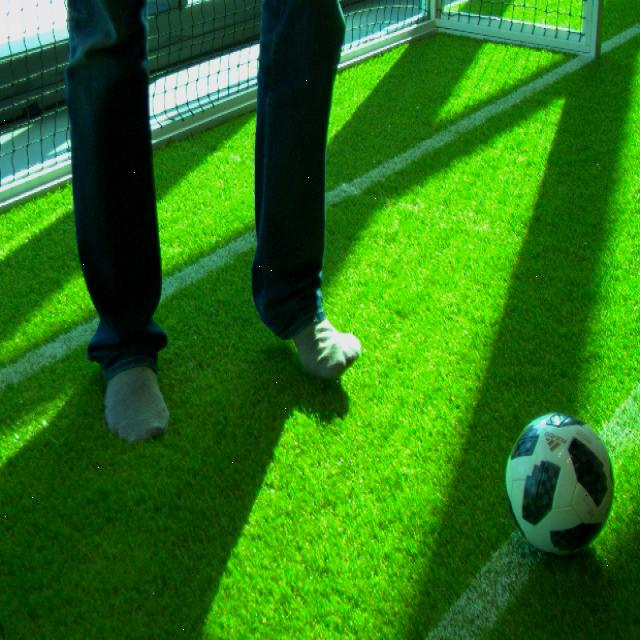ball: (505, 412, 615, 559)
goalpost: (585, 0, 603, 56)
